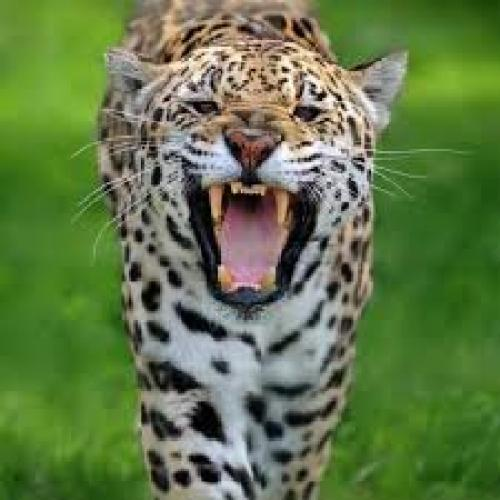jaguar_not-endangered: (95, 0, 415, 500)
